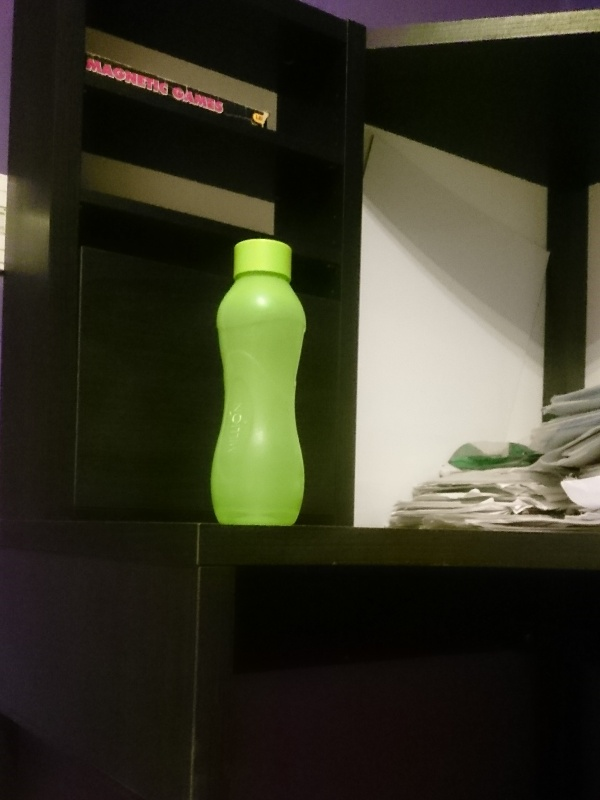my bottle: (207, 238, 306, 530)
